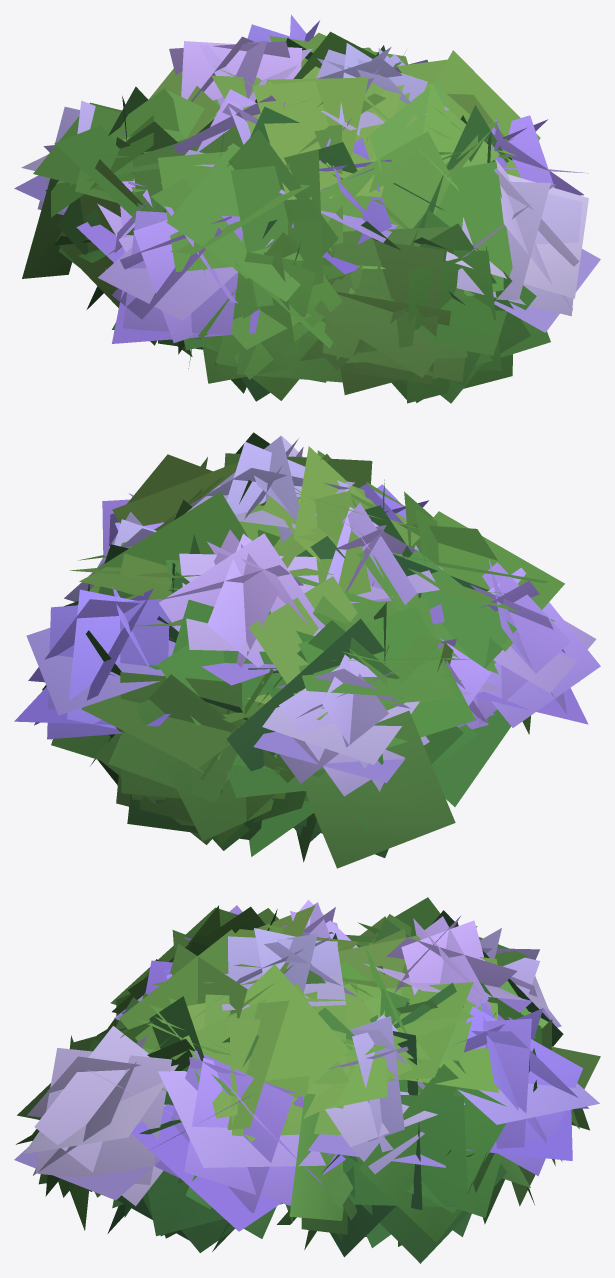
The model's file is tree-village-bush-hydrangea-v2.glb.
The picture shows the model from 3 angles, top to bottom: view 1: azimuth 30°, elevation 25°; view 2: azimuth 150°, elevation 25°; view 3: azimuth 270°, elevation 25°; orthographic projection. The views are drawn at different scales.
Parts seen in each view (by area): view 1: cards_round, cards_sakura; view 2: cards_round, cards_sakura; view 3: cards_round, cards_sakura.
Boxes of the visible parts, box(x1,y1,x2,y2) form: cards_round: box(22, 31, 550, 403); cards_sakura: box(14, 14, 600, 343); cards_round: box(42, 432, 564, 868); cards_sakura: box(14, 436, 600, 796); cards_round: box(16, 897, 600, 1263); cards_sakura: box(14, 900, 599, 1231).
Bounding box in the file's own units: 2.11 × 1.2 × 2.24.
